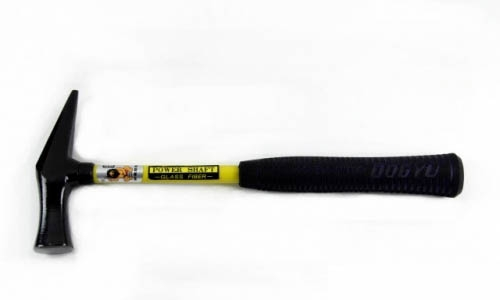hammer: (28, 88, 464, 256)
